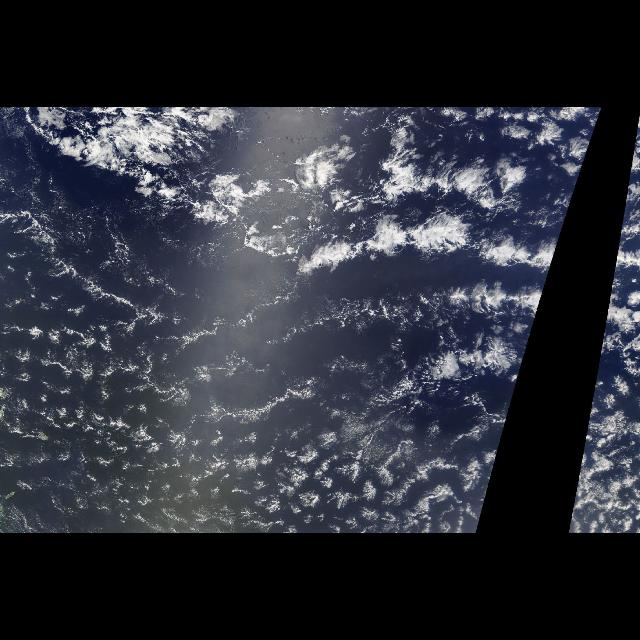Gravel: (10, 287, 440, 533)
